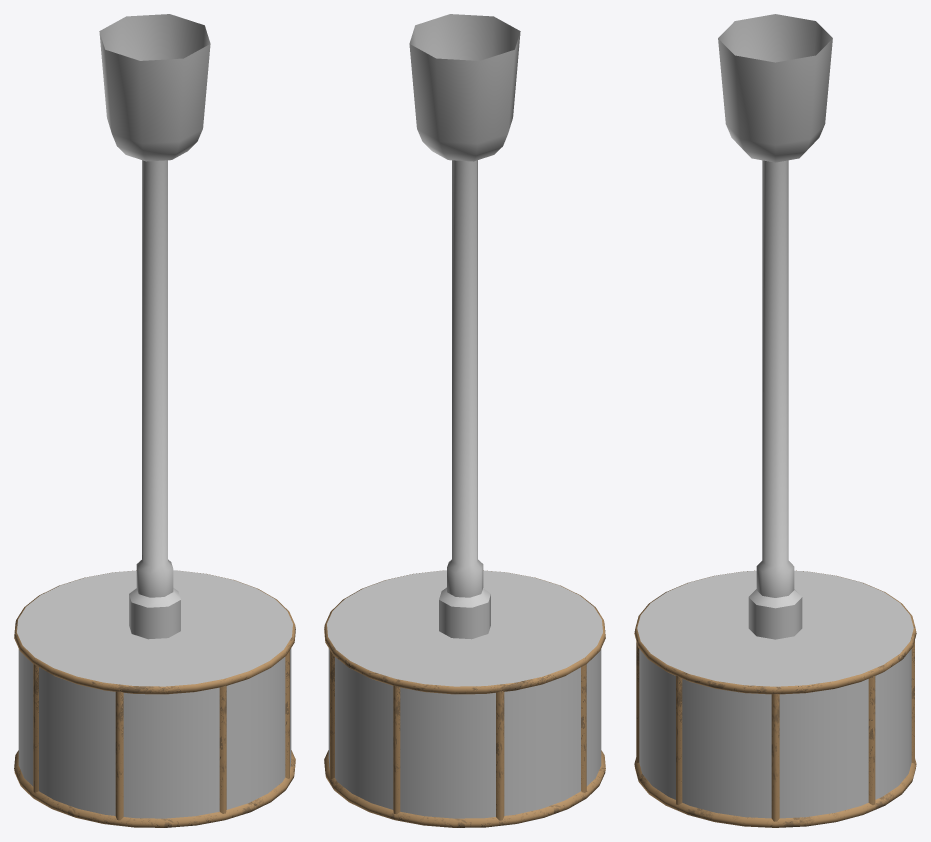
The model's file is Lamp_01.FBX.
The picture shows the model from 3 angles, left to right: view 1: azimuth 30°, elevation 25°; view 2: azimuth 150°, elevation 25°; view 3: azimuth 270°, elevation 25°; orthographic projection.
Parts seen in each view (by area): view 1: Lamp_01; view 2: Lamp_01; view 3: Lamp_01.
Part boxes in pixels (x1,y1,x2,y2): Lamp_01: (14,14,295,827); Lamp_01: (324,14,605,827); Lamp_01: (634,14,916,827).
Size of the model in its own units: 42.59 by 122 by 42.59.
